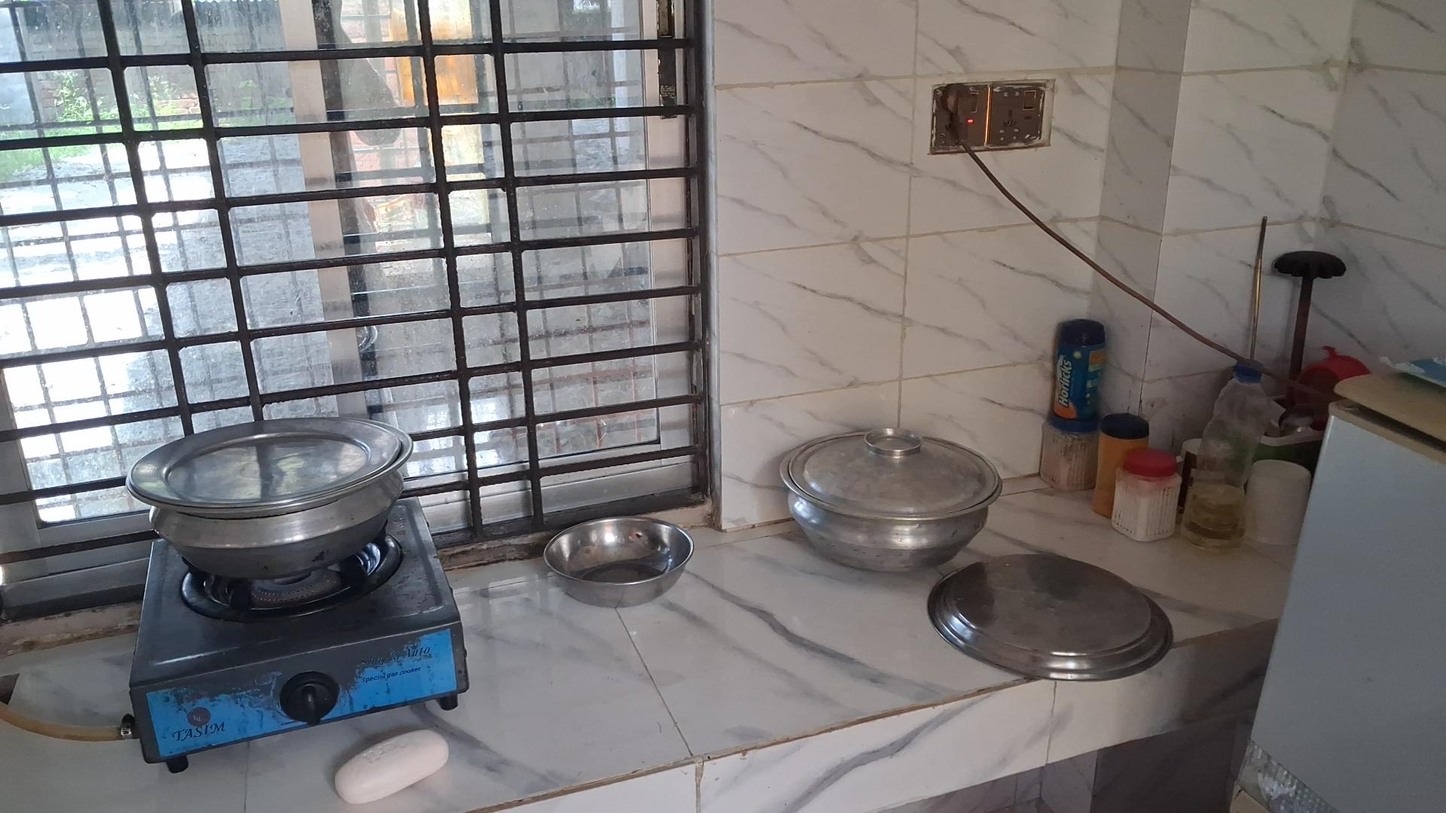Bottle: (1180, 361, 1278, 552)
Bowl: (542, 516, 694, 608)
Cup: (1242, 459, 1312, 547)
Jar: (1118, 447, 1178, 543), (1050, 325, 1104, 423), (1038, 416, 1097, 504)
Plate: (927, 551, 1175, 674)
Pot: (126, 411, 416, 585), (779, 427, 1004, 573)
Soap: (335, 734, 450, 797)
